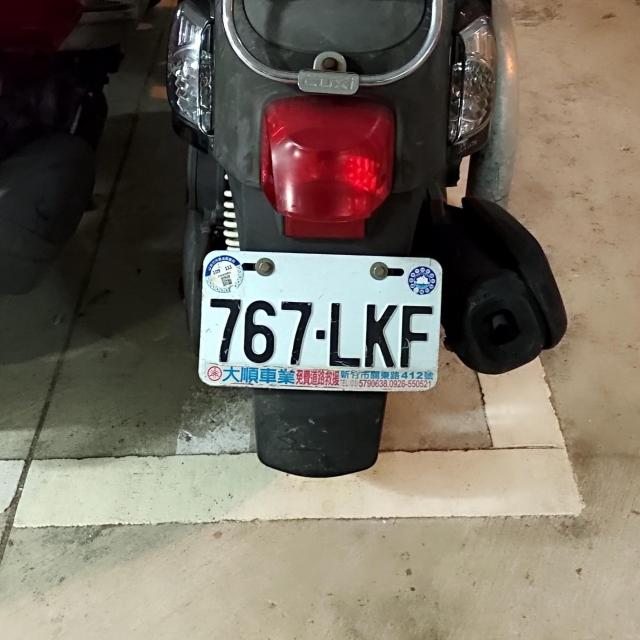W: (194, 248, 446, 397)
